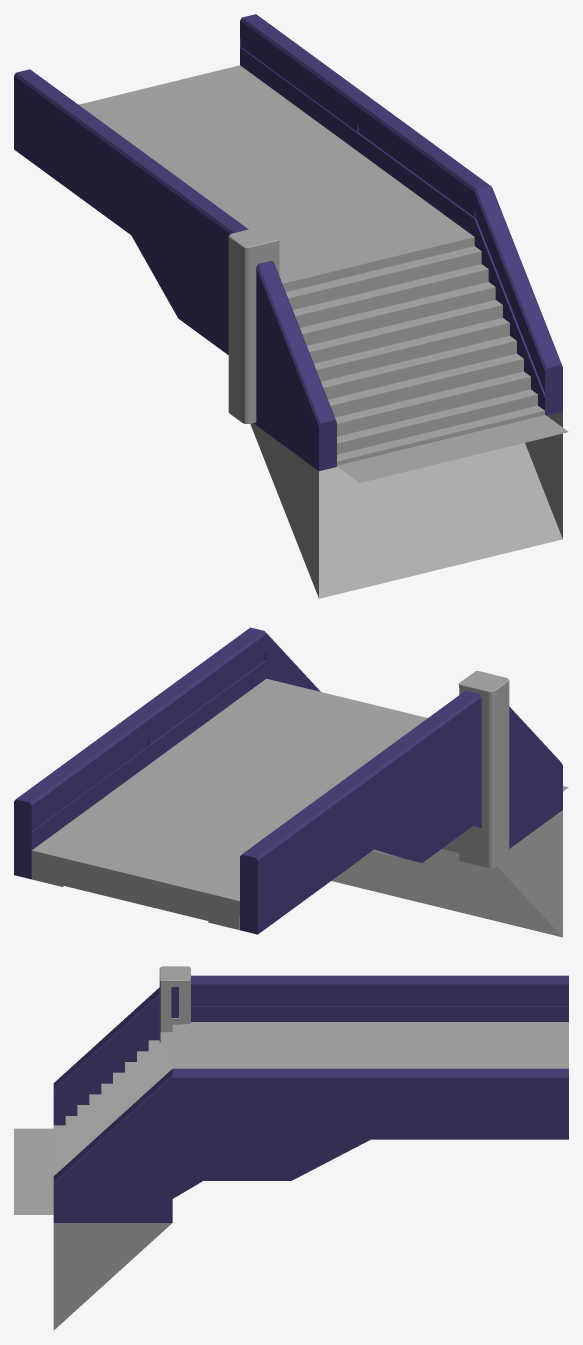
File: Bridge.fbx
3 renders of one model, top to bottom at view 1: azimuth 30°, elevation 25°; view 2: azimuth 150°, elevation 25°; view 3: azimuth 270°, elevation 25°, orthographic. The views are drawn at different scales.
Visible parts, largest first — view 1: lod0 (×4), bridgeUnder, tactile; view 2: lod0 (×4), bridgeUnder; view 3: lod0 (×4), bridgeUnder, tactile.
Part boxes in pixels (<box>): lod0 (×4): <box>14,14,562,471</box>; bridgeUnder: <box>250,412,562,598</box>; tactile: <box>337,415,568,482</box>; lod0 (×4): <box>14,627,562,934</box>; bridgeUnder: <box>331,810,562,937</box>; lod0 (×4): <box>53,966,568,1222</box>; bridgeUnder: <box>53,1223,171,1330</box>; tactile: <box>14,1128,53,1214</box>.
Size of what is drawn, in the model's own units: 6.27 by 7.23 by 14.
